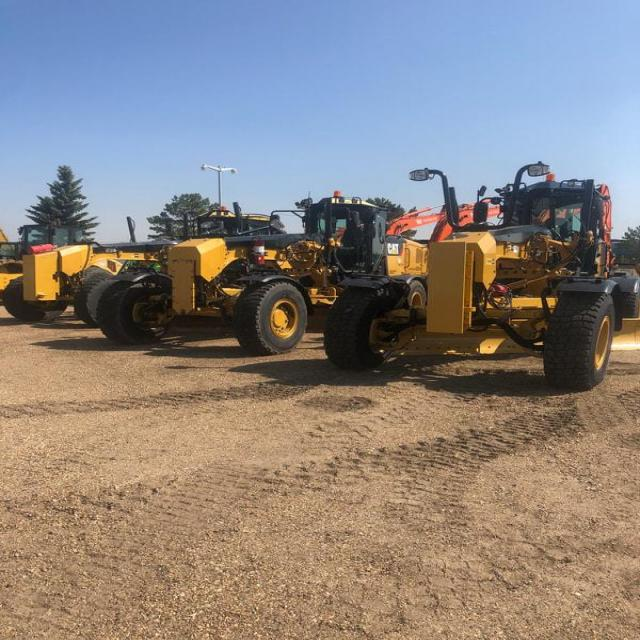Grader: (344, 170, 639, 398), (97, 168, 350, 378)
